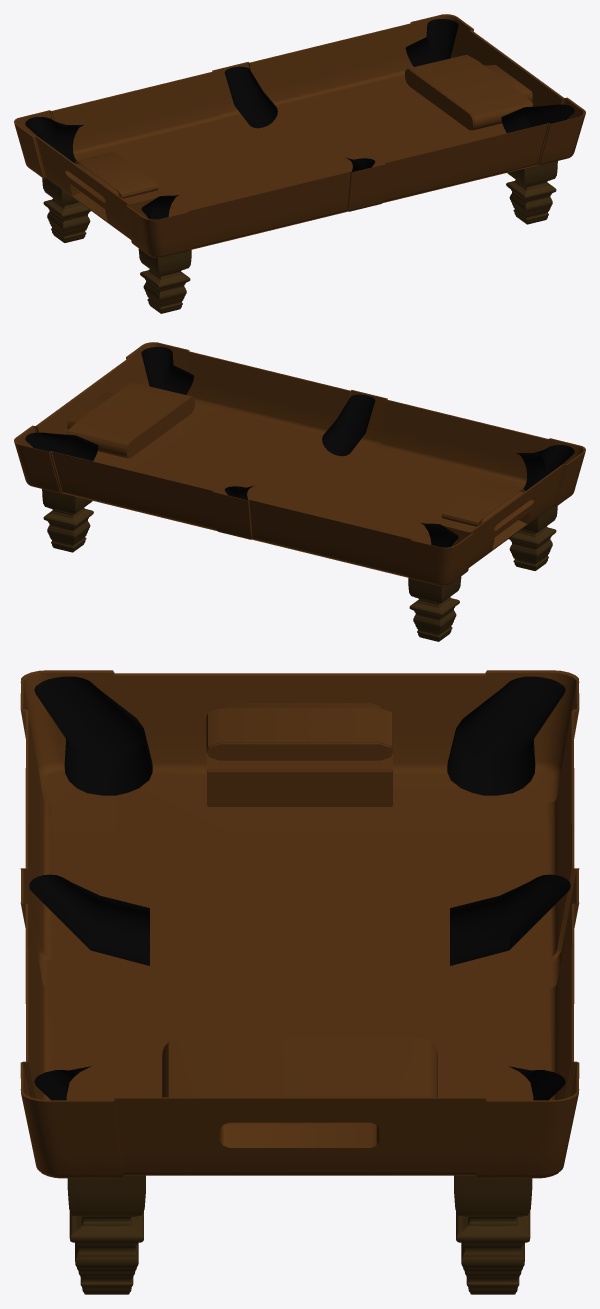
The model's file is Table_Wood.fbx.
3 renders of one model, top to bottom at view 1: azimuth 30°, elevation 25°; view 2: azimuth 150°, elevation 25°; view 3: azimuth 270°, elevation 25°, orthographic. The views are drawn at different scales.
Parts seen in each view (by area): view 1: BiliardTable.001; view 2: BiliardTable.001; view 3: BiliardTable.001.
Boxes of the visible parts, left/top/right/bottom form: BiliardTable.001: left=14, top=14, right=585, bottom=313; BiliardTable.001: left=14, top=342, right=585, bottom=641; BiliardTable.001: left=20, top=670, right=579, bottom=1294.
Size of the model in its own units: 1000 by 239 by 548.
